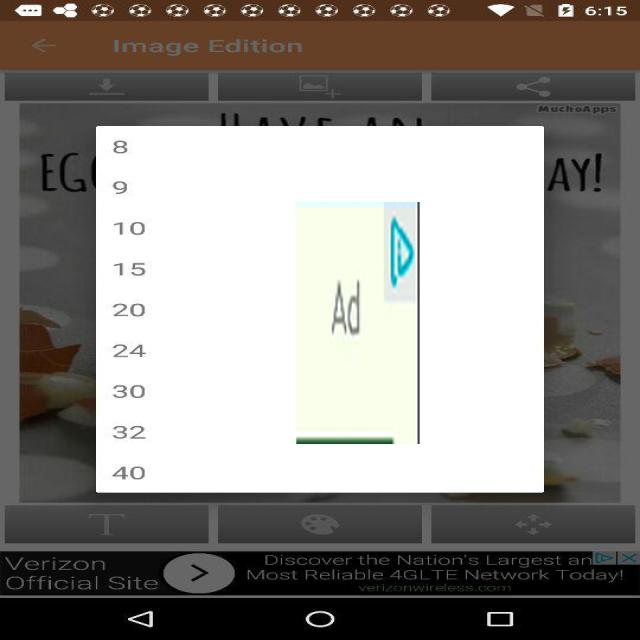sneaking: (296, 202, 420, 444)
